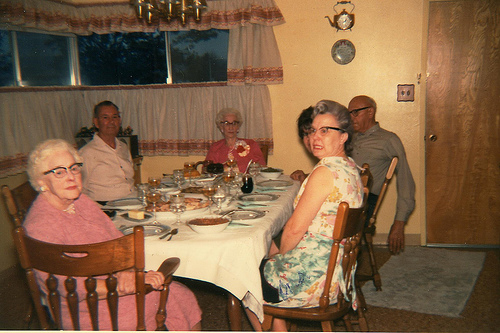without_mask: (23, 142, 86, 204), (306, 109, 351, 158), (89, 98, 124, 136), (346, 93, 376, 136), (295, 109, 319, 158), (214, 108, 243, 138)
